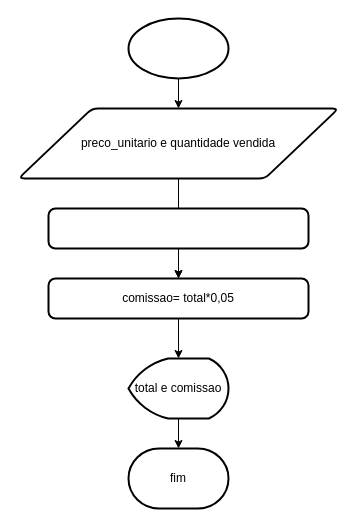
This 356x526 diagram has some shape labels left out. The box of each missing label's shape, as (x1, y1, x2, y2) in pixels:
inicio: (127, 17, 229, 79)
total= preco_unitario*quantidade vendida: (47, 207, 309, 249)
